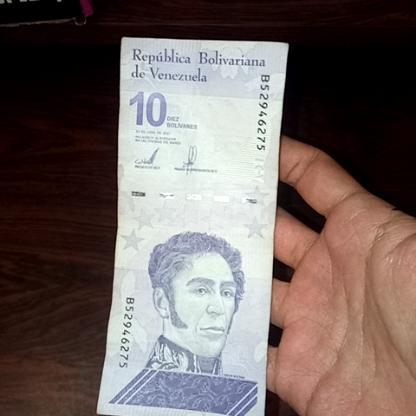ten-front-vef: (100, 38, 285, 416)
